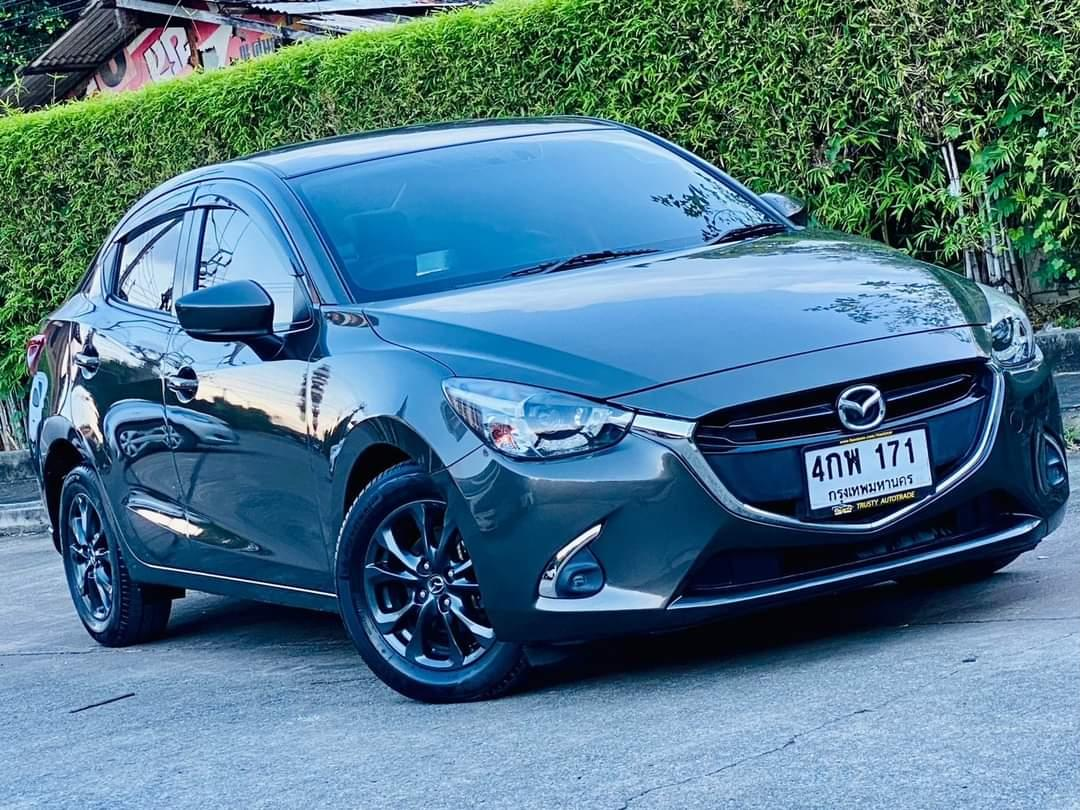license-plate: (788, 423, 941, 520)
